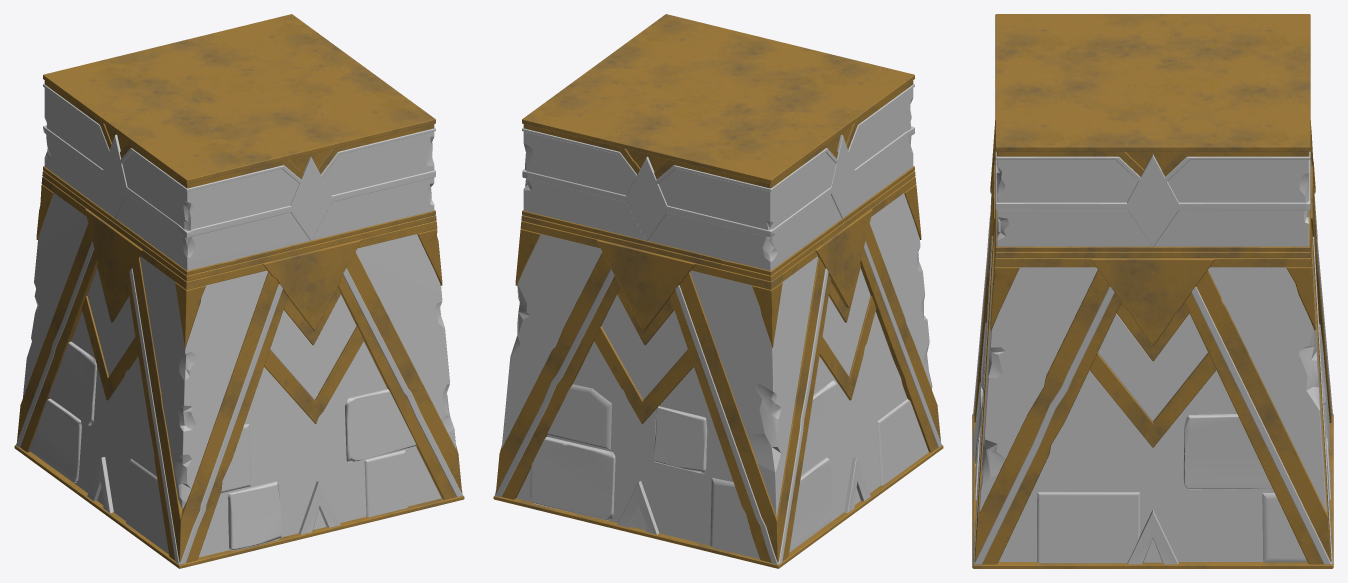
3 views of the same model, side by side, from view 1: azimuth 30°, elevation 25°; view 2: azimuth 150°, elevation 25°; view 3: azimuth 270°, elevation 25° (orthographic). The views are drawn at different scales.
Visible parts, largest first — view 1: SM_DK_20m_TowerMid_01_LOD0; view 2: SM_DK_20m_TowerMid_01_LOD0; view 3: SM_DK_20m_TowerMid_01_LOD0.
Part boxes in pixels (x1=…): SM_DK_20m_TowerMid_01_LOD0: x1=14, y1=14, x2=464, y2=568; SM_DK_20m_TowerMid_01_LOD0: x1=493, y1=14, x2=943, y2=568; SM_DK_20m_TowerMid_01_LOD0: x1=972, y1=14, x2=1333, y2=568.
Bounding box in the file's own units: 6.41 × 8.09 × 6.41.
